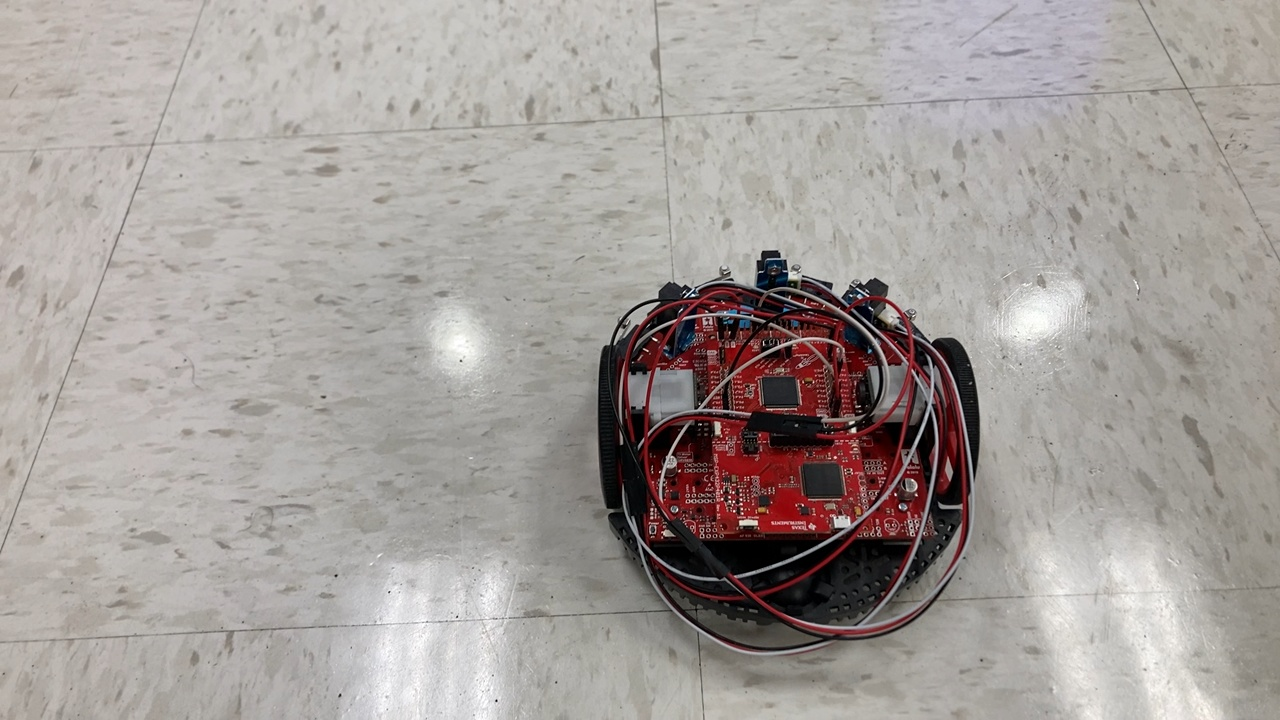robot: (588, 246, 993, 667)
